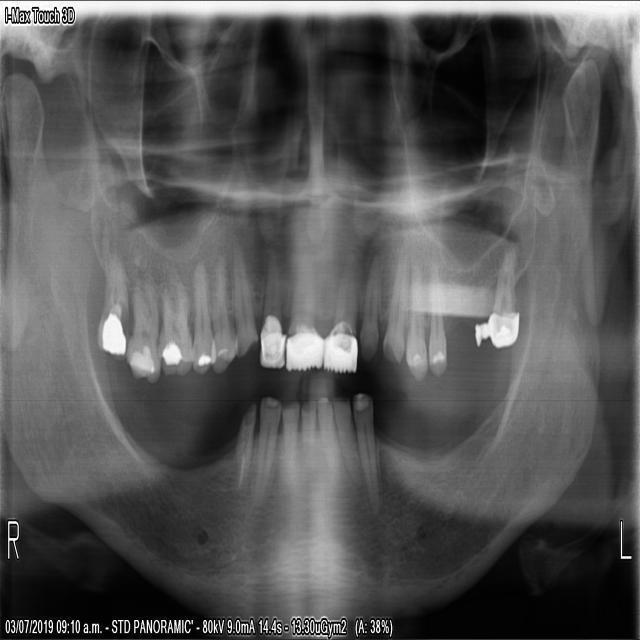LCD: (348, 386, 378, 517)
LCU: (356, 250, 380, 364)
LID: (314, 395, 349, 510), (328, 391, 361, 497)
LPMU: (378, 235, 406, 363), (402, 252, 427, 387), (426, 246, 445, 377)
RCD: (246, 389, 281, 505)
RCU: (227, 239, 258, 364)
RID: (298, 393, 319, 520), (279, 395, 296, 509)
RMU: (94, 234, 128, 364), (122, 264, 159, 383), (154, 262, 191, 378)
RPMU: (208, 247, 235, 376), (189, 251, 216, 379)
